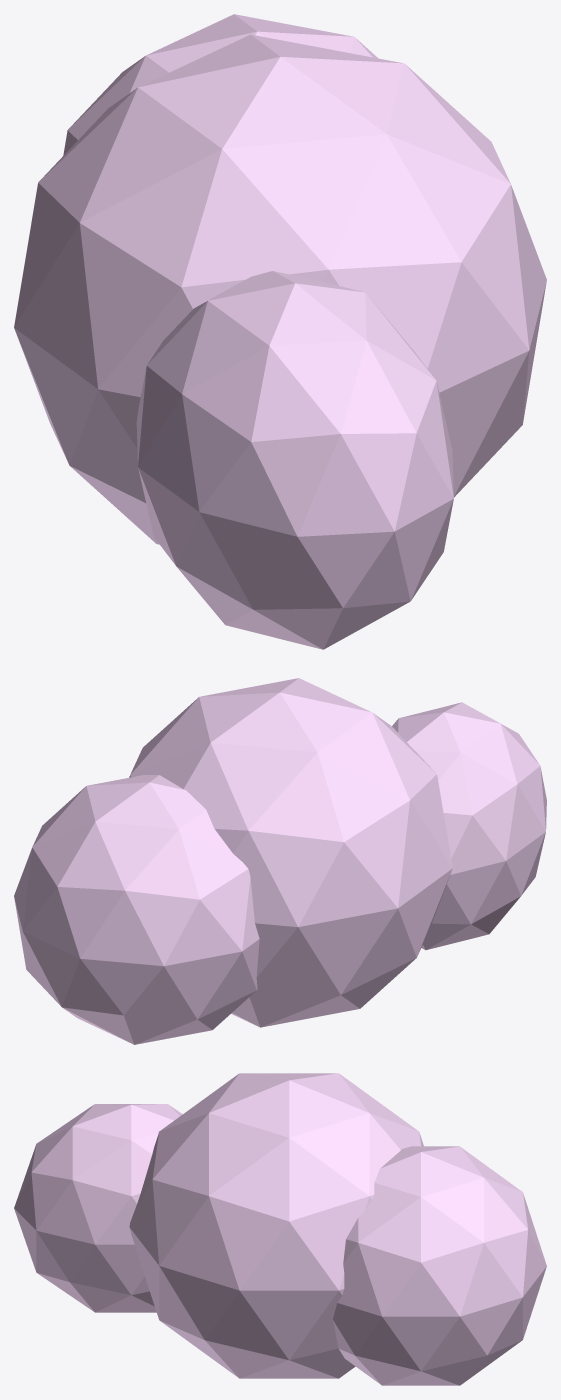
File: cloud1.fbx
3 views of the same model, one above another, from view 1: azimuth 30°, elevation 25°; view 2: azimuth 150°, elevation 25°; view 3: azimuth 270°, elevation 25° (orthographic). The views are drawn at different scales.
Parts seen in each view (by area): view 1: Icosphere.016, Icosphere.013, Icosphere.017; view 2: Icosphere.016, Icosphere.017, Icosphere.013; view 3: Icosphere.016, Icosphere.017, Icosphere.013.
Boxes of the visible parts, left/top/right/bottom form: Icosphere.016: left=14, top=34, right=546, bottom=544; Icosphere.013: left=136, top=271, right=453, bottom=649; Icosphere.017: left=63, top=14, right=378, bottom=155; Icosphere.016: left=129, top=678, right=452, bottom=1027; Icosphere.017: left=14, top=775, right=259, bottom=1044; Icosphere.013: left=392, top=702, right=546, bottom=950; Icosphere.016: left=129, top=1073, right=423, bottom=1378; Icosphere.017: left=333, top=1146, right=546, bottom=1385; Icosphere.013: left=14, top=1104, right=182, bottom=1312.
Size of the model in its own units: 456 by 422 by 699.
